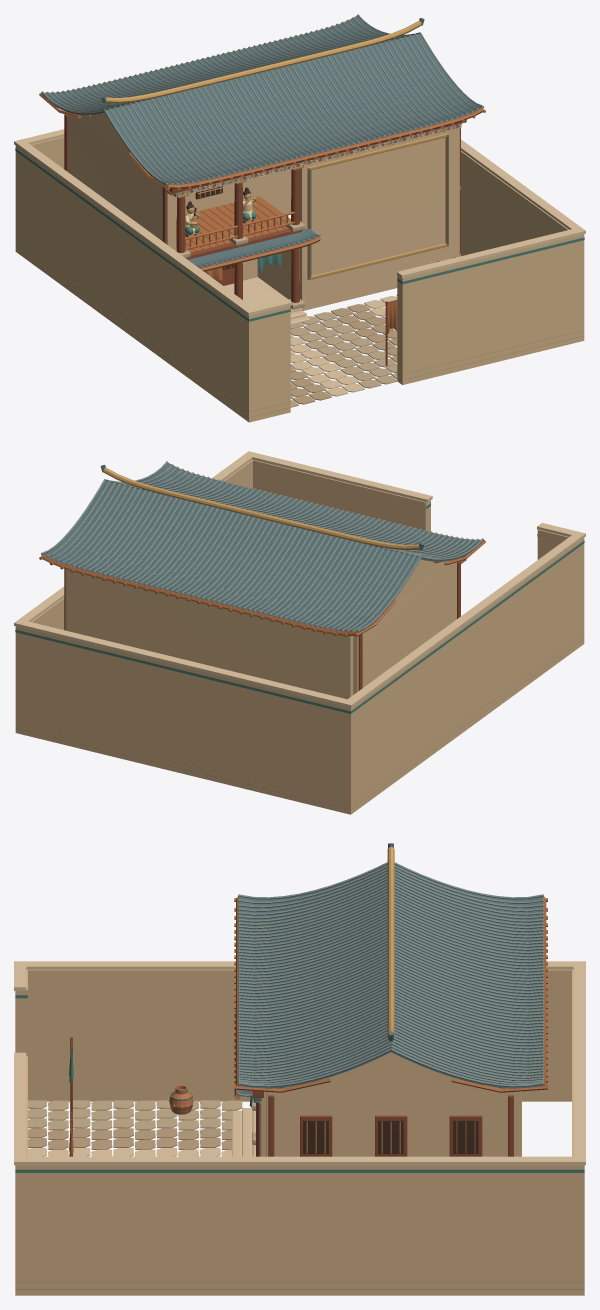
File: music-pavilion.glb
3 views of the same model, one above another, from view 1: azimuth 30°, elevation 25°; view 2: azimuth 150°, elevation 25°; view 3: azimuth 270°, elevation 25° (orthographic). The views are drawn at different scales.
Parts seen in each view (by area): view 1: courtyard-enclosure--plaster, architecture--plaster, main-roof--tile, main-roof--tile-edge, courtyard-enclosure--stone-light, court-paving--stone, porch--wood, porch--wood-light, court-paving--stone-shadow, court-paving--stone-light, main-roof--wood-light, main-roof--ochre (+11 smaller); view 2: courtyard-enclosure--plaster, main-roof--tile, architecture--plaster, main-roof--tile-edge, courtyard-enclosure--stone-light, main-roof--wood-light, main-roof--ochre, courtyard-enclosure--teal, courtyard-enclosure--stone-shadow, roof-wall-closure--plaster, mural-frame--wood; view 3: courtyard-enclosure--plaster, main-roof--tile-edge, main-roof--tile, architecture--plaster, courtyard-enclosure--stone-light, court-paving--stone, court-paving--stone-shadow, roof-wall-closure--plaster, mural-frame--dark, mural-frame--wood, courtyard-enclosure--teal, main-roof--wood-light (+6 smaller).
Part boxes in pixels (left/top/right/bottom): courtyard-enclosure--plaster: left=15, top=136, right=584, bottom=422; architecture--plaster: left=68, top=115, right=459, bottom=310; main-roof--tile: left=42, top=16, right=481, bottom=185; main-roof--tile-edge: left=41, top=14, right=483, bottom=185; courtyard-enclosure--stone-light: left=14, top=129, right=585, bottom=315; court-paving--stone: left=290, top=295, right=397, bottom=407; porch--wood: left=176, top=169, right=301, bottom=302; porch--wood-light: left=165, top=189, right=294, bottom=269; court-paving--stone-shadow: left=290, top=304, right=397, bottom=404; court-paving--stone-light: left=290, top=296, right=397, bottom=396; main-roof--wood-light: left=39, top=16, right=485, bottom=190; main-roof--ochre: left=105, top=20, right=421, bottom=103; courtyard-enclosure--plaster: left=15, top=459, right=584, bottom=814; main-roof--tile: left=43, top=463, right=482, bottom=632; architecture--plaster: left=65, top=562, right=456, bottom=699; main-roof--tile-edge: left=41, top=461, right=483, bottom=632; courtyard-enclosure--stone-light: left=14, top=451, right=585, bottom=707; main-roof--wood-light: left=39, top=463, right=485, bottom=636; main-roof--ochre: left=103, top=467, right=419, bottom=550; courtyard-enclosure--teal: left=15, top=503, right=584, bottom=713; courtyard-enclosure--stone-shadow: left=16, top=633, right=583, bottom=809; roof-wall-closure--plaster: left=394, top=559, right=450, bottom=600; mural-frame--wood: left=64, top=561, right=460, bottom=690; courtyard-enclosure--plaster: left=15, top=969, right=584, bottom=1295; main-roof--tile-edge: left=238, top=862, right=544, bottom=1087; main-roof--tile: left=238, top=843, right=543, bottom=1088; architecture--plaster: left=260, top=1089, right=521, bottom=1156; courtyard-enclosure--stone-light: left=14, top=961, right=585, bottom=1165; court-paving--stone: left=28, top=1100, right=242, bottom=1130; court-paving--stone-shadow: left=28, top=1128, right=231, bottom=1149; roof-wall-closure--plaster: left=264, top=1052, right=508, bottom=1097; mural-frame--dark: left=303, top=1120, right=478, bottom=1153; mural-frame--wood: left=268, top=1095, right=513, bottom=1156; courtyard-enclosure--teal: left=15, top=995, right=584, bottom=1172; main-roof--wood-light: left=234, top=897, right=547, bottom=1092.
Size of the model in its own units: 19.02 by 11.41 by 22.92.
Materials: 18 (1 with a texture image).
